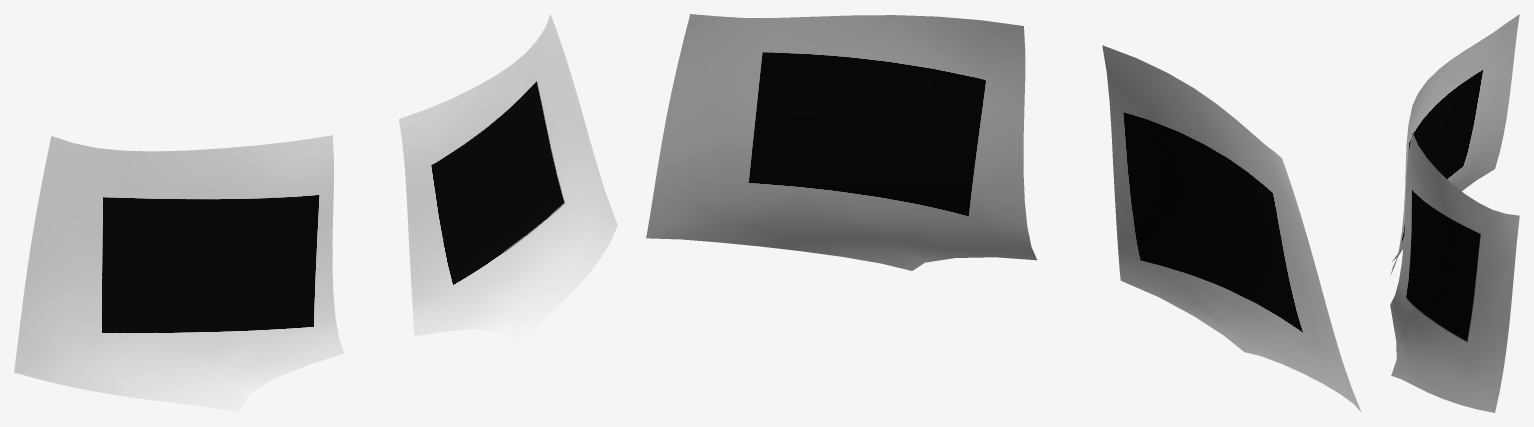
Rendered from Blank.gltf.
3 renders of one model, left to right at view 1: azimuth 30°, elevation 25°; view 2: azimuth 150°, elevation 25°; view 3: azimuth 270°, elevation 25°, orthographic. The views are drawn at different scales.
Visible parts, largest first — view 1: eyes2; view 2: eyes2; view 3: eyes2.
Boxes of the visible parts, left/top/right/bottom form: eyes2: left=14, top=14, right=617, bottom=412; eyes2: left=646, top=14, right=1361, bottom=412; eyes2: left=1390, top=14, right=1519, bottom=412.
Bounding box in the file's own units: 6.44 × 2.52 × 1.45.
1 material, 1 textured.
